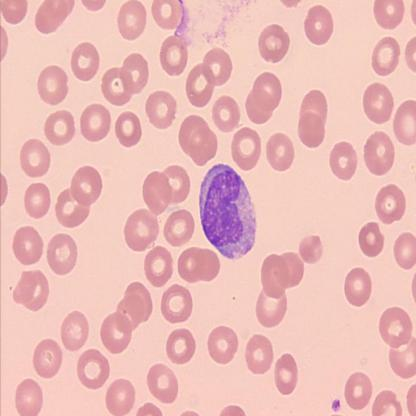Monocyte: (198, 163, 258, 262)
